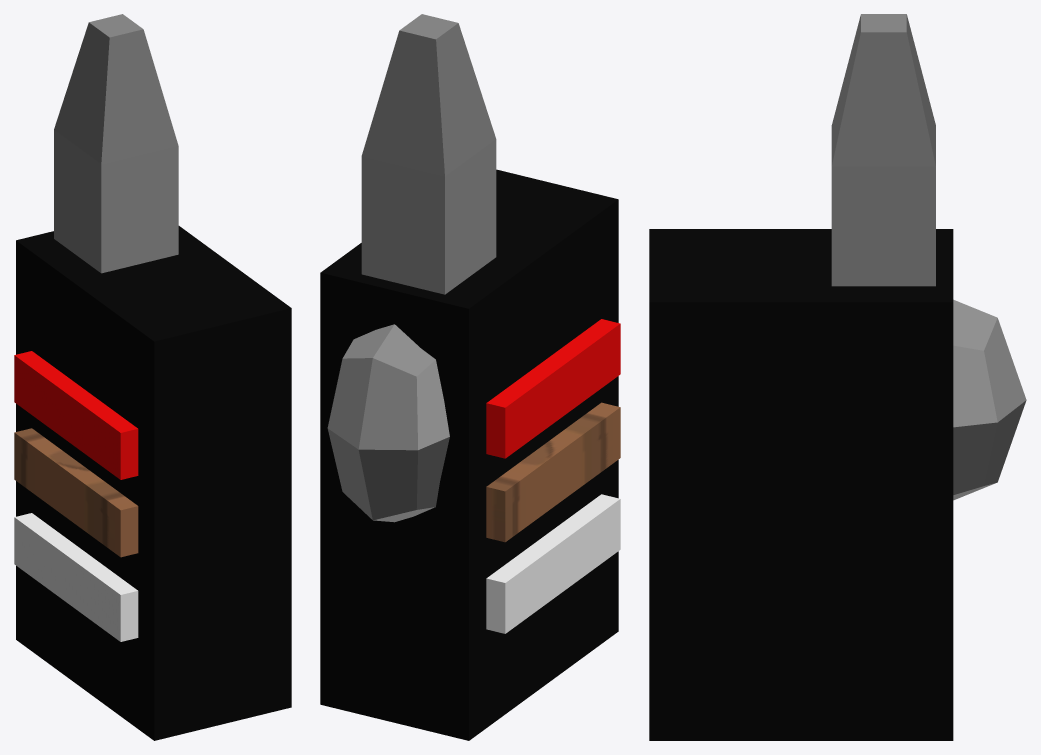
Rendered from item-walkie-talkie.glb.
3 views of the same model, side by side, from view 1: azimuth 30°, elevation 25°; view 2: azimuth 150°, elevation 25°; view 3: azimuth 270°, elevation 25° (orthographic). The views are drawn at different scales.
Size of the model in its own units: 0.52 by 1.99 by 0.9986.
Materials: 5 (1 with a texture image).
